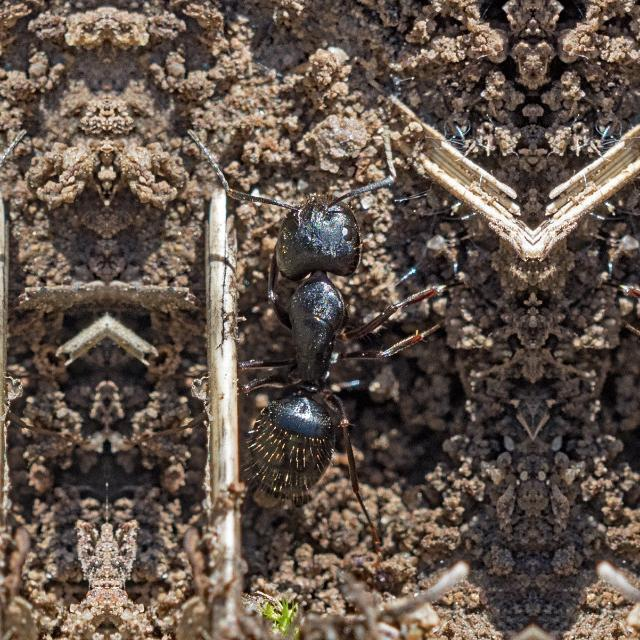Camponotus: (186, 126, 424, 510)
